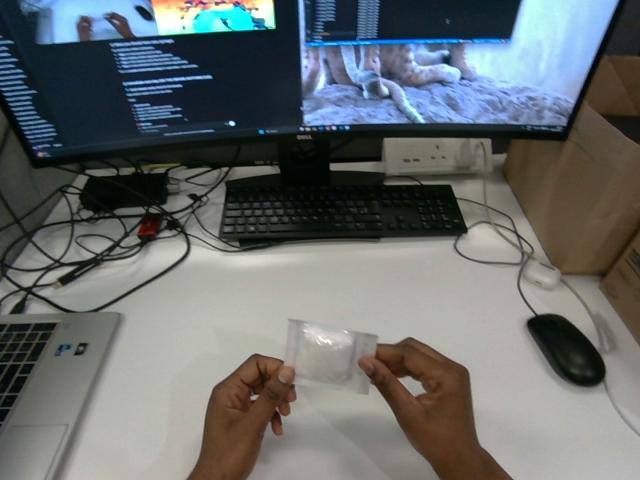gauze: (284, 320, 377, 393)
